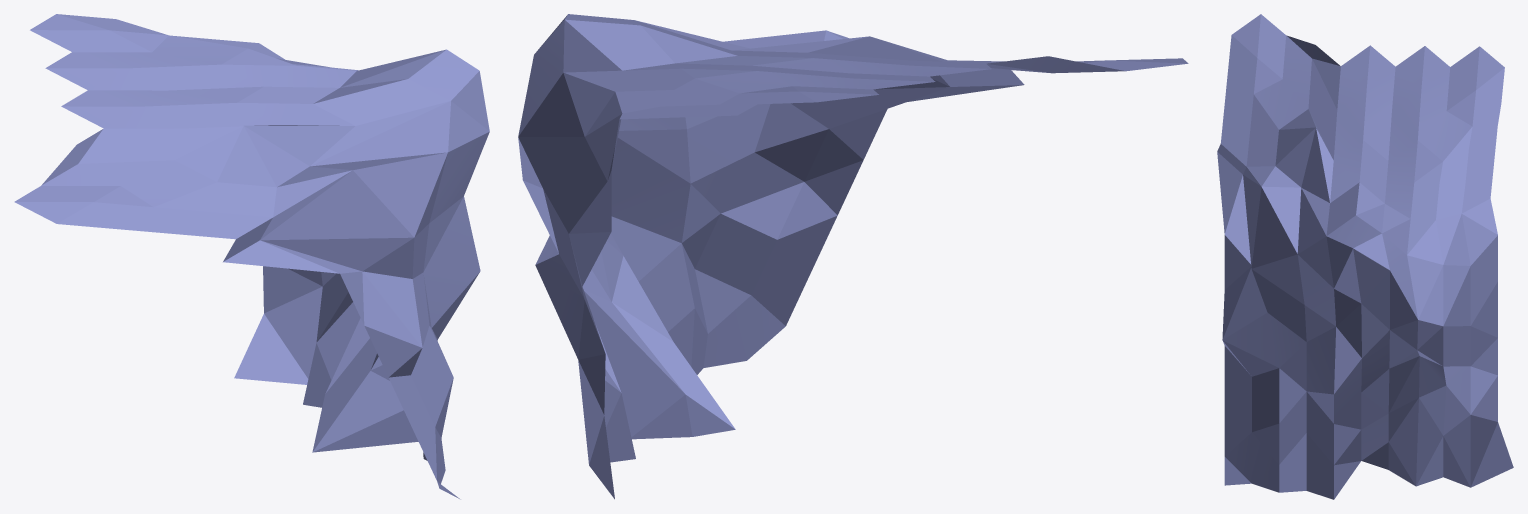
File: falaise1.fbx
The picture shows the model from 3 angles, left to right: view 1: azimuth 30°, elevation 25°; view 2: azimuth 150°, elevation 25°; view 3: azimuth 270°, elevation 25°; orthographic projection. The views are drawn at different scales.
Parts seen in each view (by area): view 1: pPlane5; view 2: pPlane5; view 3: pPlane5.
Part boxes in pixels (left/top/right/bottom): pPlane5: left=14, top=14, right=489, bottom=499; pPlane5: left=518, top=14, right=1188, bottom=499; pPlane5: left=1217, top=14, right=1513, bottom=499.
Bounding box in the file's own units: 411 × 309 × 249.
